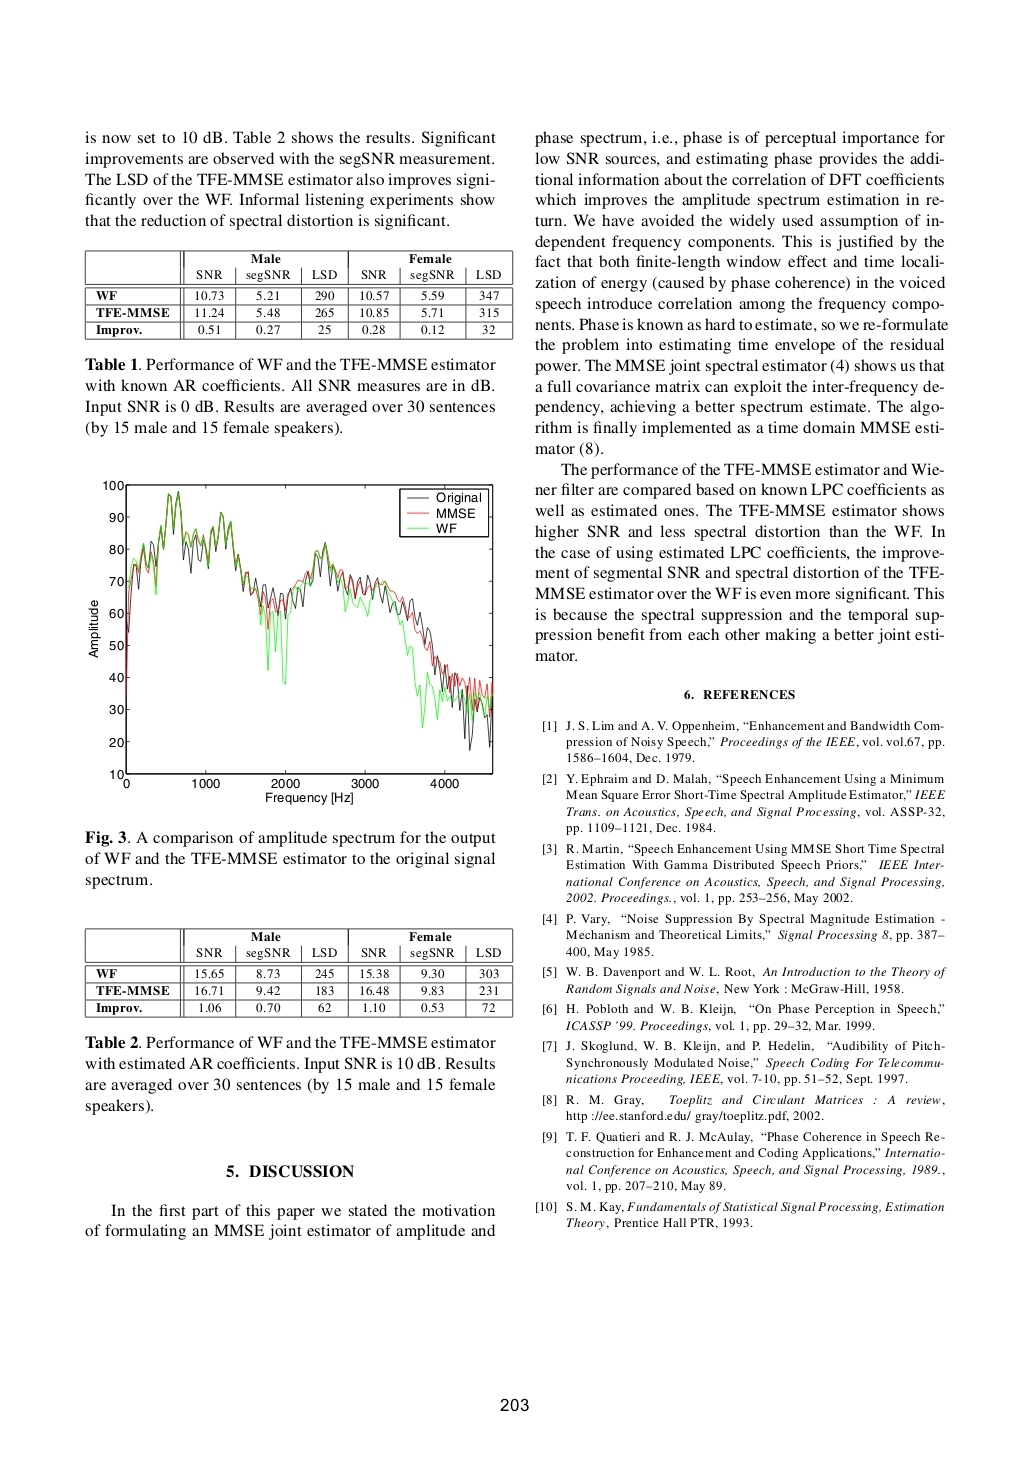Table: (84, 249, 513, 340), (84, 927, 513, 1018)
figure: (88, 480, 493, 804)
